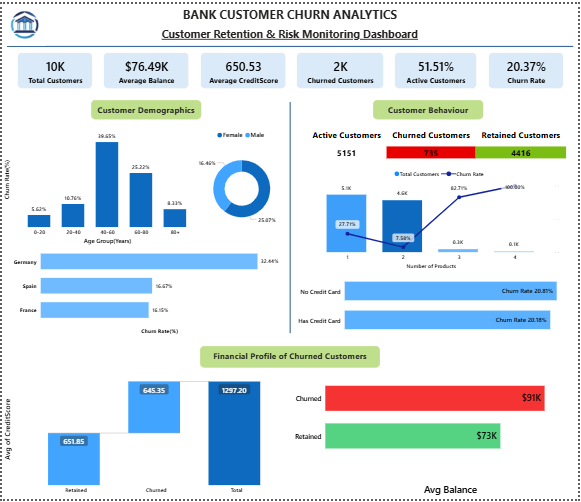

This screenshot's page, from the dashboard's own definition file:
{"tool":"powerbi","page":{"name":"Customer Churn Overview","canvas":[1280,1100],"ordinal":0},"visuals":[{"type":"textbox","box":[382.1,0,515.7,54.3],"z":0},{"type":"group","id":"g1","title":"Group 1","box":[21.4,95.7,1237.1,105.7],"z":1000},{"type":"cardVisual","fields":{"Data":["CountNonNull(Bank_Churn.CustomerId)"]},"box":[21.4,95.7,191.4,105.7],"z":1000,"group":"g1"},{"type":"shape","box":[10.7,78.6,1258.6,32.9],"z":2000},{"type":"cardVisual","fields":{"Data":["Bank_Churn.Churned Customers"]},"box":[641.4,95.7,218.6,105.7],"z":2000,"group":"g1"},{"type":"textbox","box":[331.4,44.3,617.1,51.4],"z":3000},{"type":"cardVisual","fields":{"Data":["Avg(Bank_Churn.CreditScore)"]},"box":[427.1,95.7,214.3,105.7],"z":3000,"group":"g1"},{"type":"cardVisual","fields":{"Data":["Avg(Bank_Churn.Balance)"]},"box":[212.8,95.7,214.3,105.7],"z":4000,"group":"g1"},{"type":"textbox","box":[196.7,213.3,245,43.3],"z":4000},{"type":"cardVisual","fields":{"Data":["Bank_Churn.Active Customers %"]},"box":[860,95.7,207.1,105.7],"z":5000,"group":"g1"},{"type":"columnChart","fields":{"Category":["Bank_Churn.Age Group"],"Y":["Bank_Churn.Churn Rate"]},"box":[0,270,447.1,268.6],"z":5000},{"type":"cardVisual","fields":{"Data":["Bank_Churn.Churn Rate"]},"box":[1067.1,95.7,191.4,105.7],"z":6000,"group":"g1"},{"type":"donutChart","fields":{"Category":["Bank_Churn.Gender"],"Y":["Bank_Churn.Churn Rate"]},"box":[426,270,212,250],"z":6000},{"type":"barChart","fields":{"Category":["Bank_Churn.Geography"],"Y":["Bank_Churn.Churn Rate"]},"box":[20,520,600,220],"z":7000},{"type":"shape","box":[614,218,54,514],"z":8000},{"type":"textbox","box":[825,213.3,245,43.3],"z":9000},{"type":"pivotTable","fields":{"Values":["Bank_Churn.Active Customers","Bank_Churn.Churned Customers","Bank_Churn.Retained Customers"]},"box":[655,270,613.3,86.7],"z":10000},{"type":"lineStackedColumnComboChart","fields":{"Category":["Bank_Churn.NumOfProducts"],"Y":["Bank_Churn.Total Customers"],"Y2":["Bank_Churn.Churn Rate"]},"box":[666.7,356.7,613.3,236.7],"z":11000},{"type":"barChart","fields":{"Category":["Bank_Churn.Credit Card Status"],"Y":["Bank_Churn.Churn Rate"]},"box":[655,550,625,233],"z":12000},{"type":"textbox","box":[440,760,400,48],"z":13000},{"type":"clusteredBarChart","fields":{"Category":["Bank_Churn.Customer Status"],"Y":["Avg(Bank_Churn.Balance)"]},"box":[645,760,635,337.5],"z":14000},{"type":"waterfallChart","fields":{"Category":["Bank_Churn.Customer Status"],"Y":["Avg(Bank_Churn.CreditScore)"]},"box":[0,807.5,660,292.5],"z":15000},{"type":"image","box":[0,0,100,93],"z":15001}]}

Visuals, with their boxes in screenshot pixels (x1, y1, x2, y2), scaled from the page's 1280x1100 canvas onto the 581x502 screenshot:
textbox: box(173, 0, 408, 25)
"Group 1" group: box(10, 44, 571, 92)
cardVisual - CountNonNull(Bank_Churn.CustomerId): box(10, 44, 97, 92)
shape: box(5, 36, 576, 51)
cardVisual - Bank_Churn.Churned Customers: box(291, 44, 390, 92)
textbox: box(150, 20, 431, 44)
cardVisual - Avg(Bank_Churn.CreditScore): box(194, 44, 291, 92)
cardVisual - Avg(Bank_Churn.Balance): box(97, 44, 194, 92)
textbox: box(89, 97, 200, 117)
cardVisual - Bank_Churn.Active Customers %: box(390, 44, 484, 92)
columnChart - Bank_Churn.Age Group x Bank_Churn.Churn Rate: box(0, 123, 203, 246)
cardVisual - Bank_Churn.Churn Rate: box(484, 44, 571, 92)
donutChart - Bank_Churn.Gender x Bank_Churn.Churn Rate: box(193, 123, 290, 237)
barChart - Bank_Churn.Geography x Bank_Churn.Churn Rate: box(9, 237, 281, 338)
shape: box(279, 99, 303, 334)
textbox: box(374, 97, 486, 117)
pivotTable - Bank_Churn.Active Customers x Bank_Churn.Churned Customers: box(297, 123, 576, 163)
lineStackedColumnComboChart - Bank_Churn.NumOfProducts x Bank_Churn.Total Customers: box(303, 163, 580, 271)
barChart - Bank_Churn.Credit Card Status x Bank_Churn.Churn Rate: box(297, 251, 580, 357)
textbox: box(200, 347, 381, 369)
clusteredBarChart - Bank_Churn.Customer Status x Avg(Bank_Churn.Balance): box(293, 347, 580, 501)
waterfallChart - Bank_Churn.Customer Status x Avg(Bank_Churn.CreditScore): box(0, 369, 300, 501)
image: box(0, 0, 45, 42)
